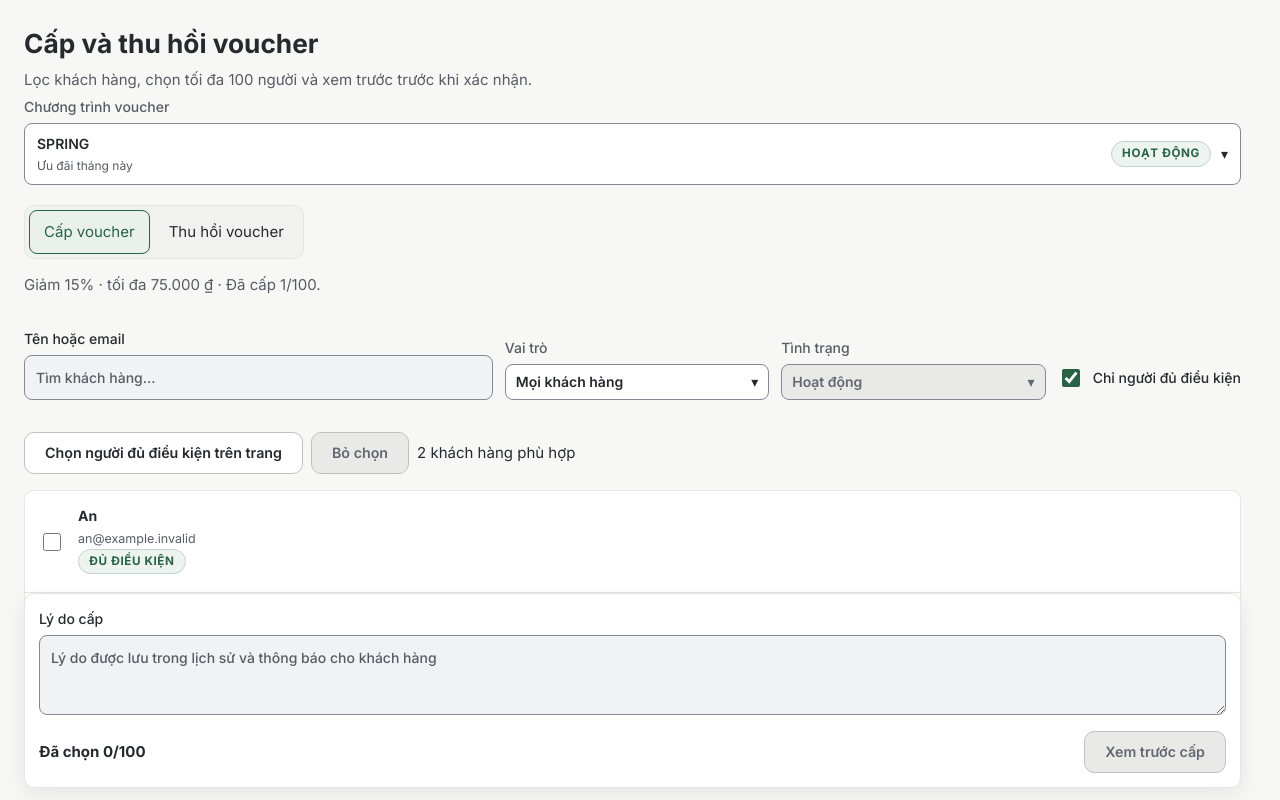
KTV hàng loạt › đổi bộ lọc bỏ lựa chọn cũ
The image size is (1280, 800).
Expected: the text "an@example.invalid" is shown, [78,531,196,546]
Click the checkbox named "Chọn An · an@example.invalid" at {"x": 52, "y": 542}, box [43,532,61,550]
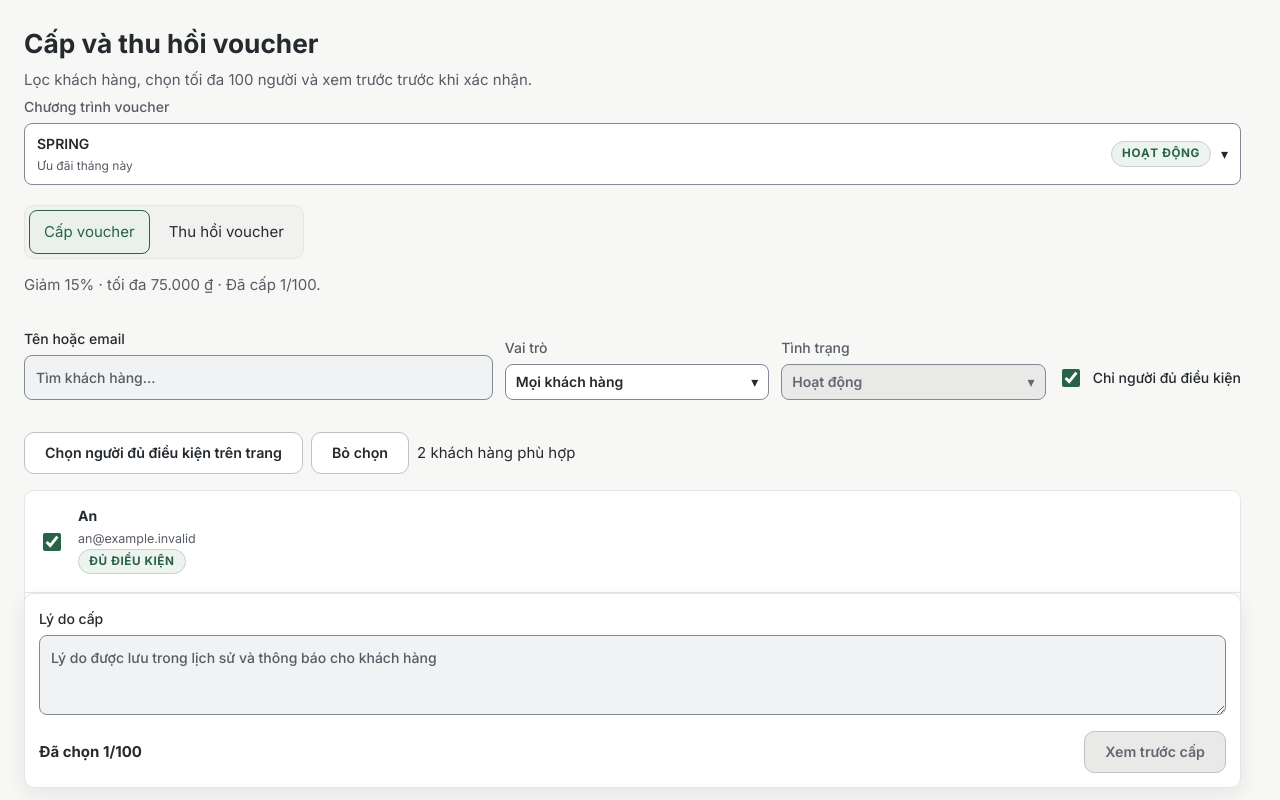
Now the text "Đã chọn 1/100" is shown, box [39,741,142,763]
Type "An" into the field labelled "Tên hoặc email" at {"x": 258, "y": 377}, box [24,355,493,400]
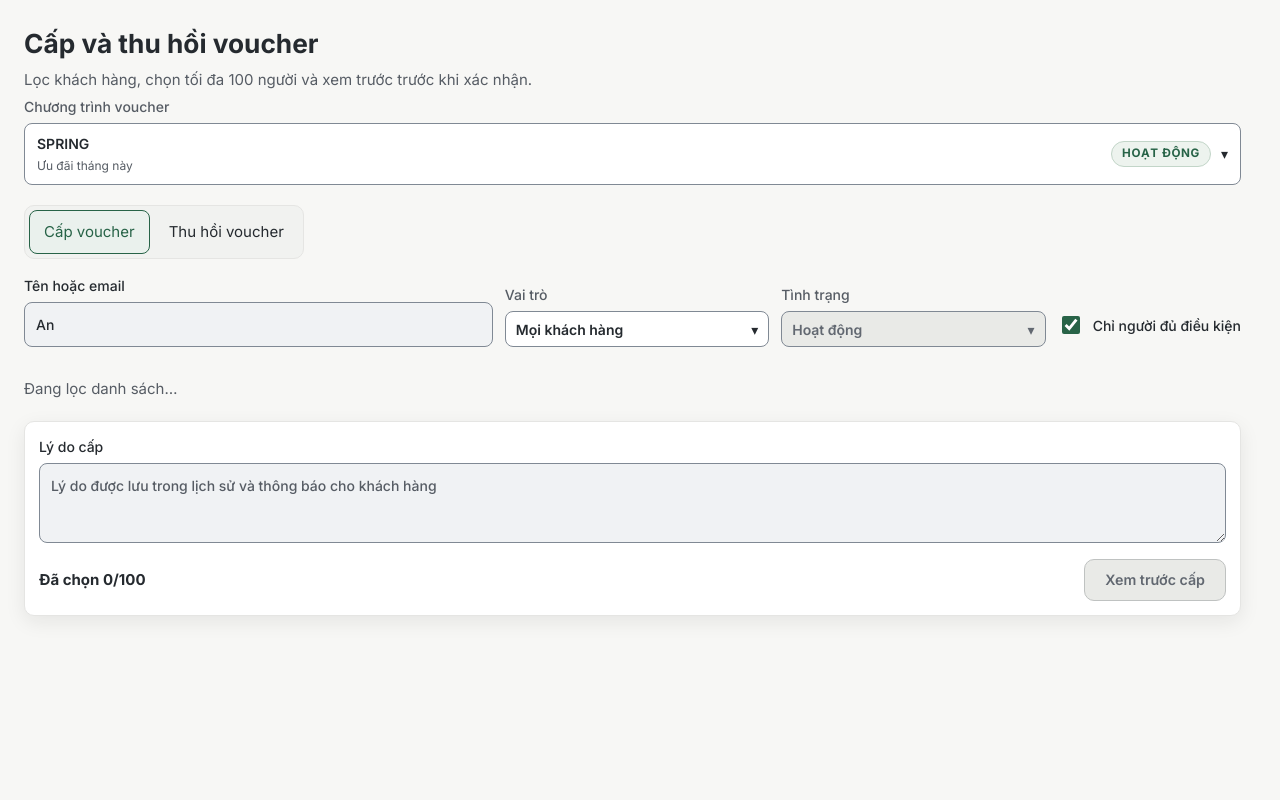
Now the text "Đã chọn 0/100" is shown, box [39,569,146,591]
Click the checkbox labelled "Chỉ người đủ điều kiện" at {"x": 1071, "y": 325}, box [1062,316,1080,334]
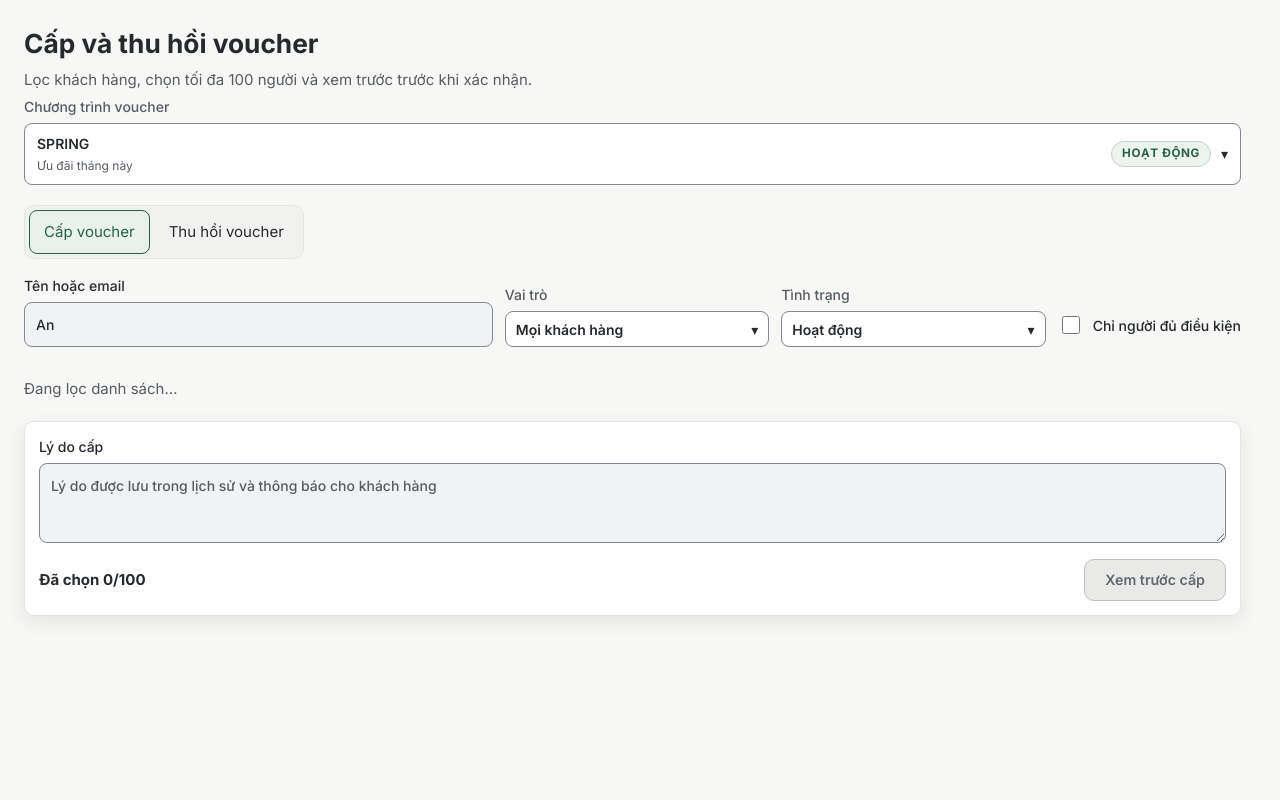
Click the dropdown named "Tình trạng" at {"x": 827, "y": 329}, box [781,311,1046,347]
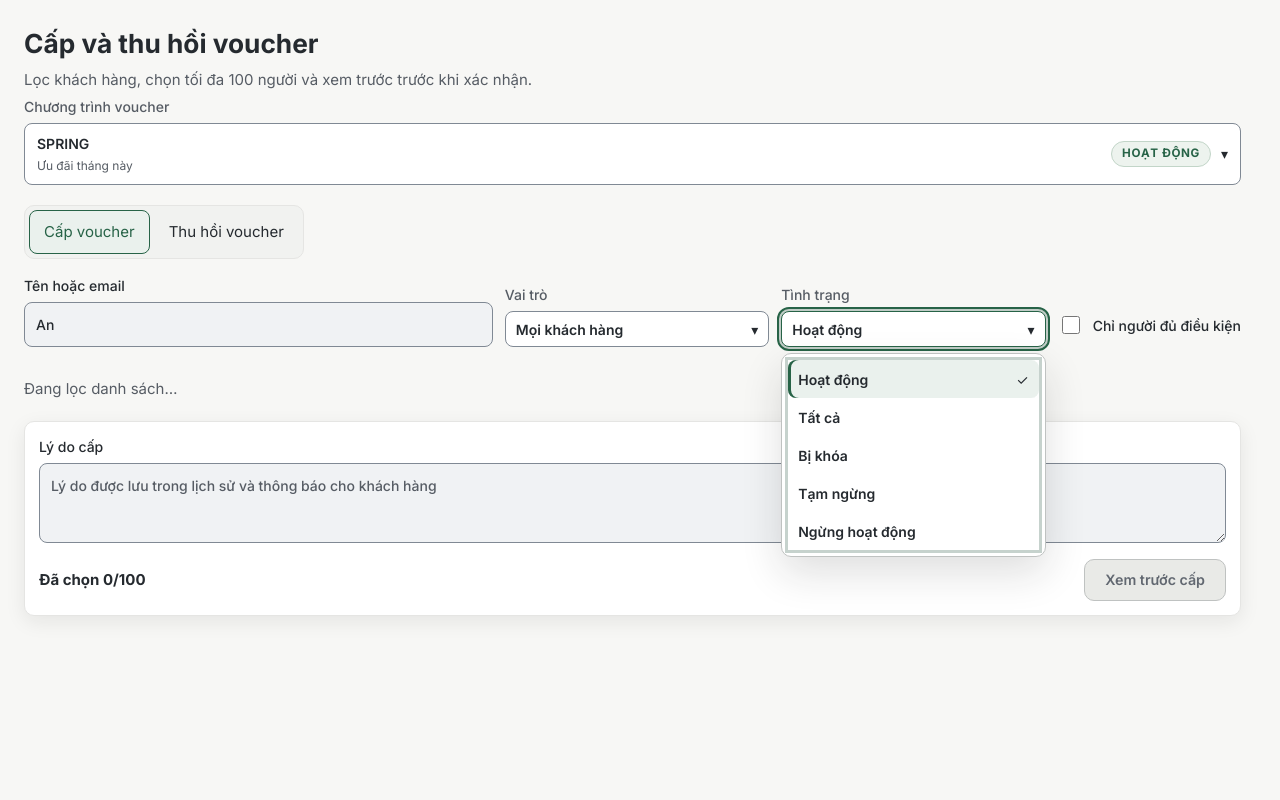
Click the option "Bị khóa" at {"x": 823, "y": 455}, box [798,447,848,464]
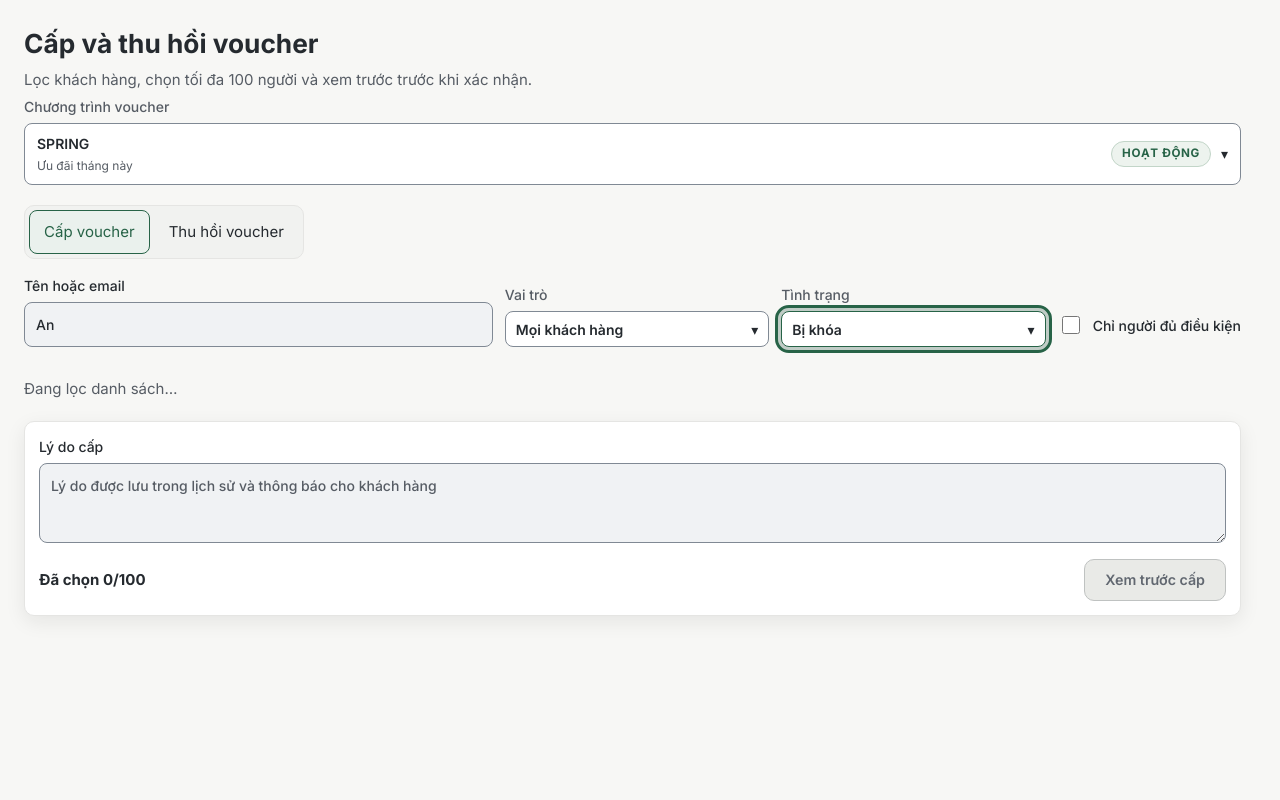
Click the checkbox labelled "Chỉ người đủ điều kiện" at {"x": 1071, "y": 325}, box [1062,316,1080,334]
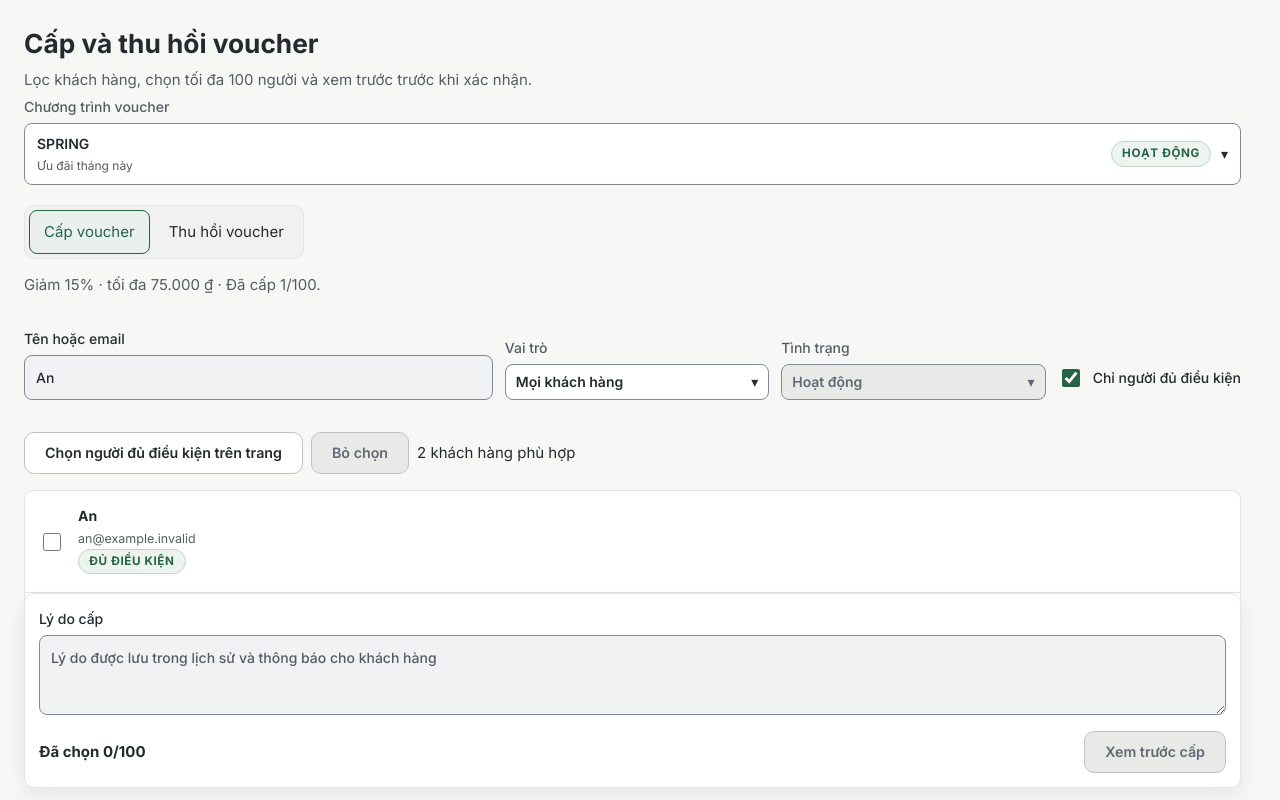
Now the dropdown named "Tình trạng" shows "Hoạt động", box [781,364,1046,400]
Now the dropdown named "Tình trạng" is disabled, box [781,364,1046,400]
